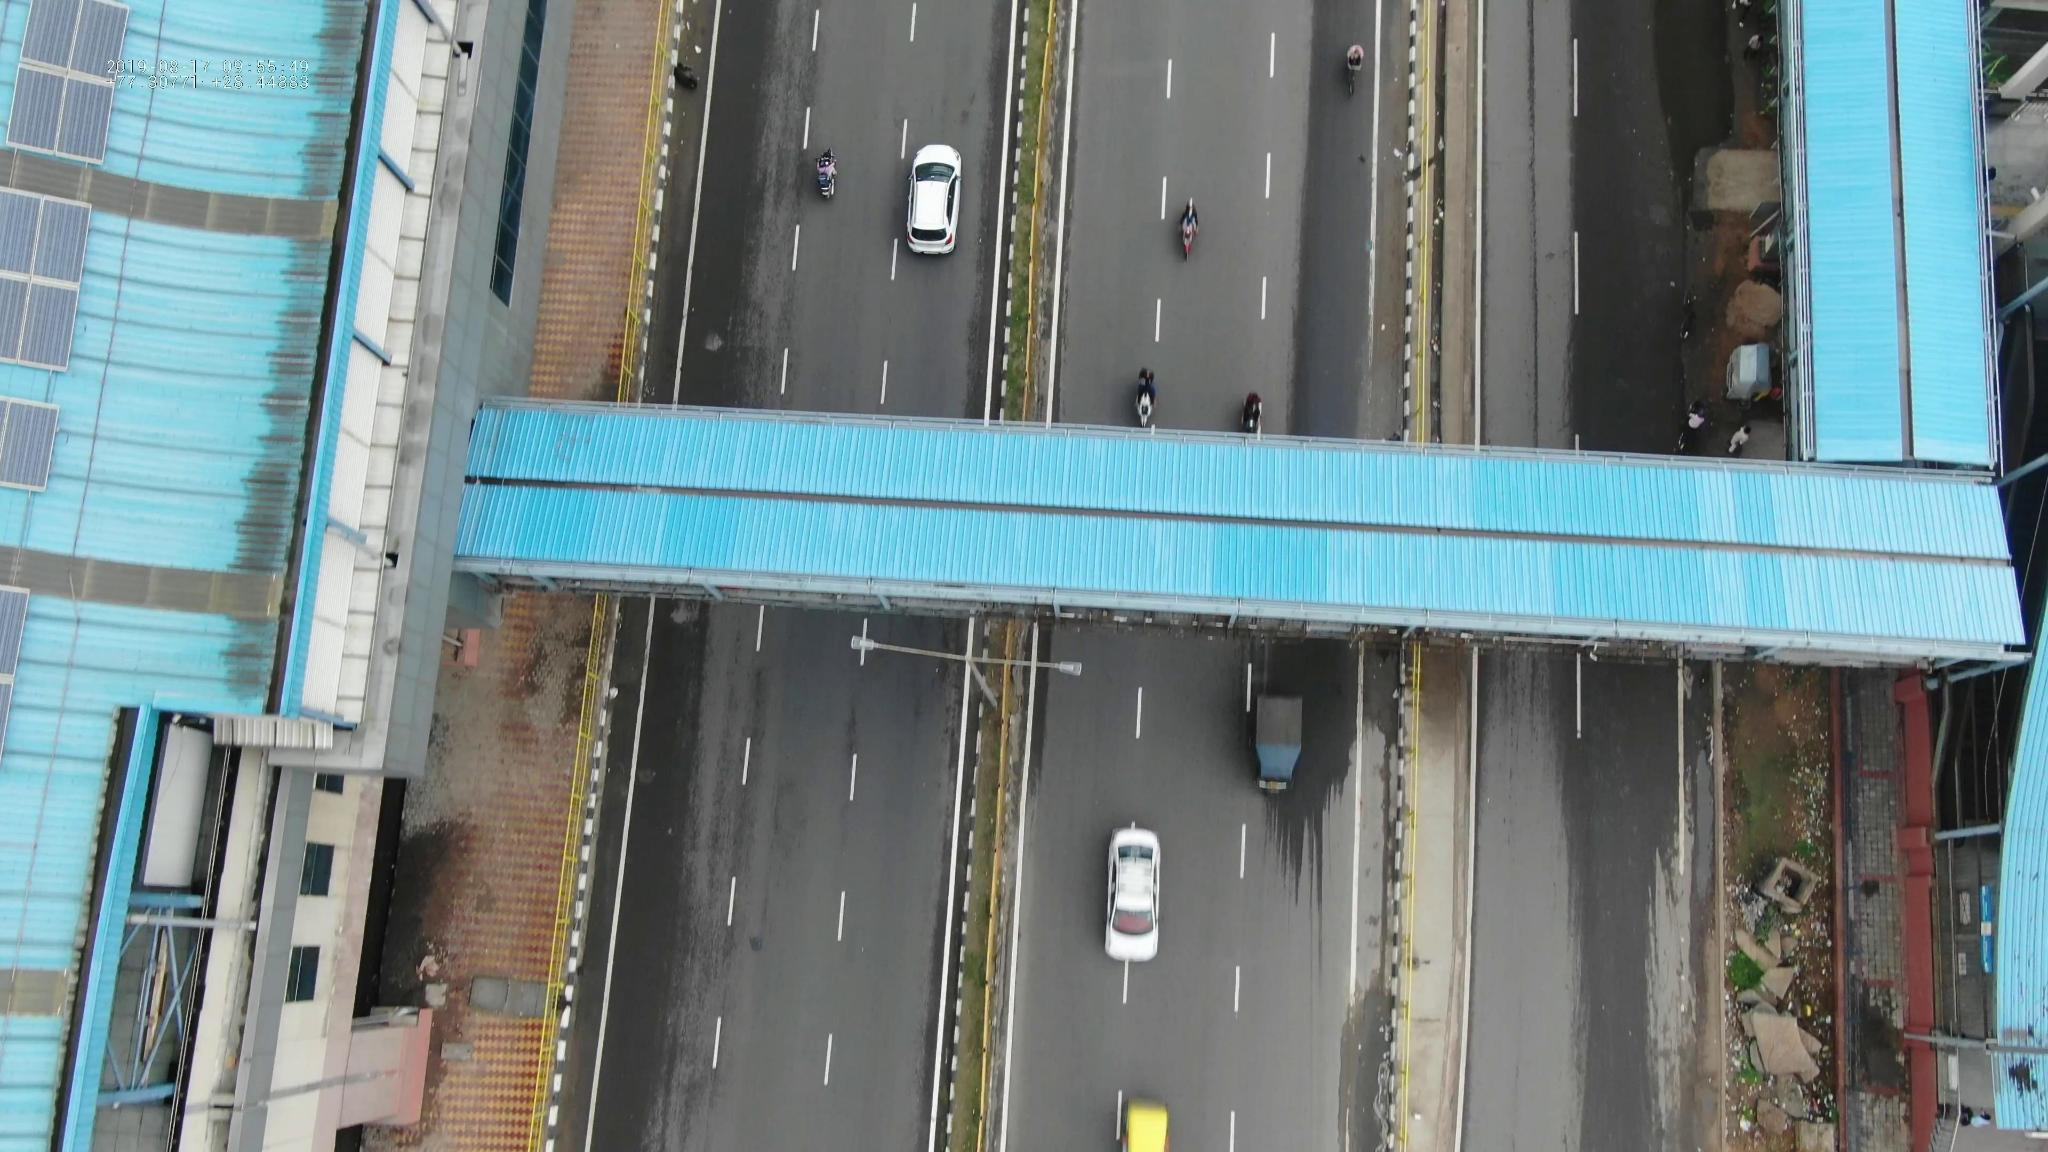Waterlogging: (1672, 716, 1720, 961)
